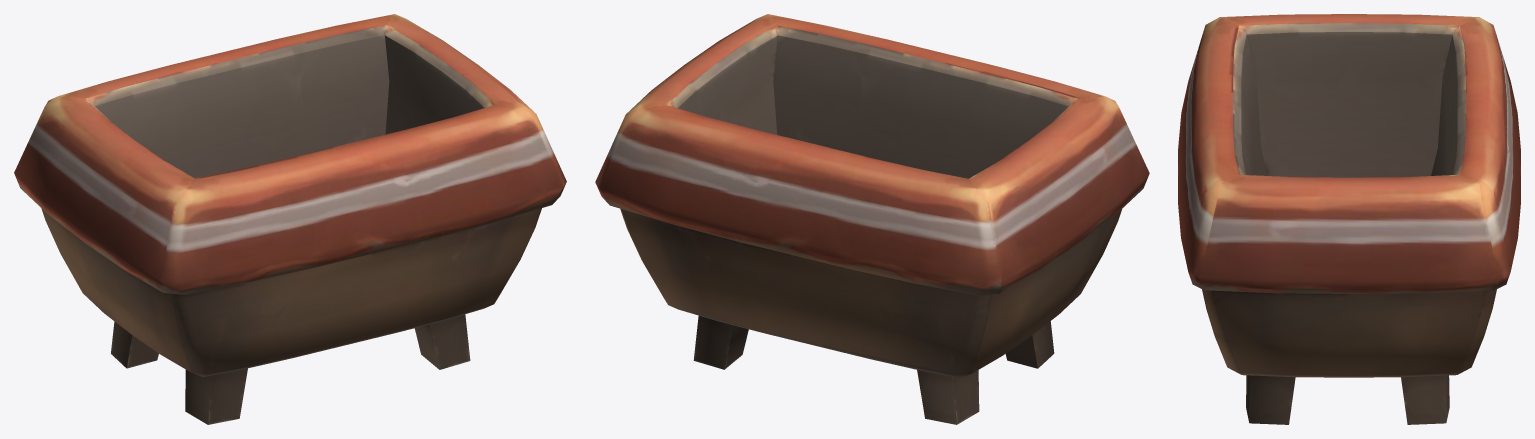
File: DE_Flowerpot_04b.fbx
3 renders of one model, left to right at view 1: azimuth 30°, elevation 25°; view 2: azimuth 150°, elevation 25°; view 3: azimuth 270°, elevation 25°, orthographic.
Parts seen in each view (by area): view 1: DE_Flowerpot_04b; view 2: DE_Flowerpot_04b; view 3: DE_Flowerpot_04b.
Part boxes in pixels (x1,y1,x2,y2): DE_Flowerpot_04b: (14, 14, 566, 424); DE_Flowerpot_04b: (595, 14, 1149, 424); DE_Flowerpot_04b: (1178, 14, 1520, 424).
Size of the model in its own units: 3.23 by 1.87 by 2.25.
